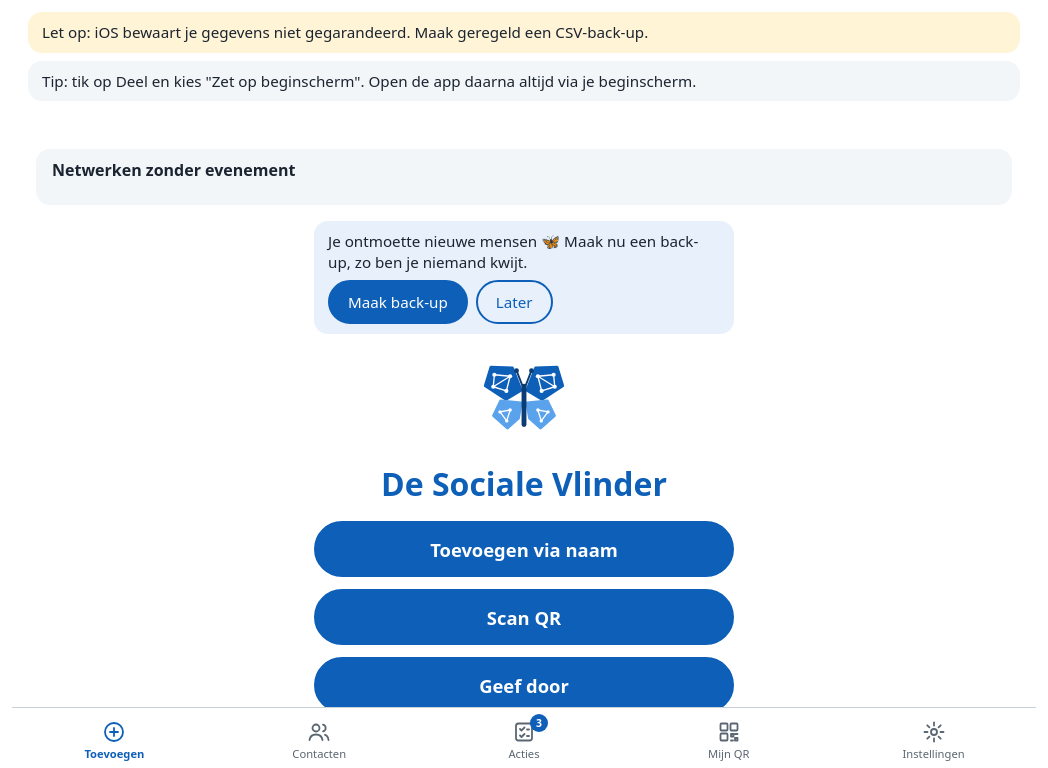
Test case: Same name (User Story 2) › asks "Is this the same person?" before saving or opening anything
Click the button "Toevoegen via naam". click: (524, 549)
box: [314,521,734,577]
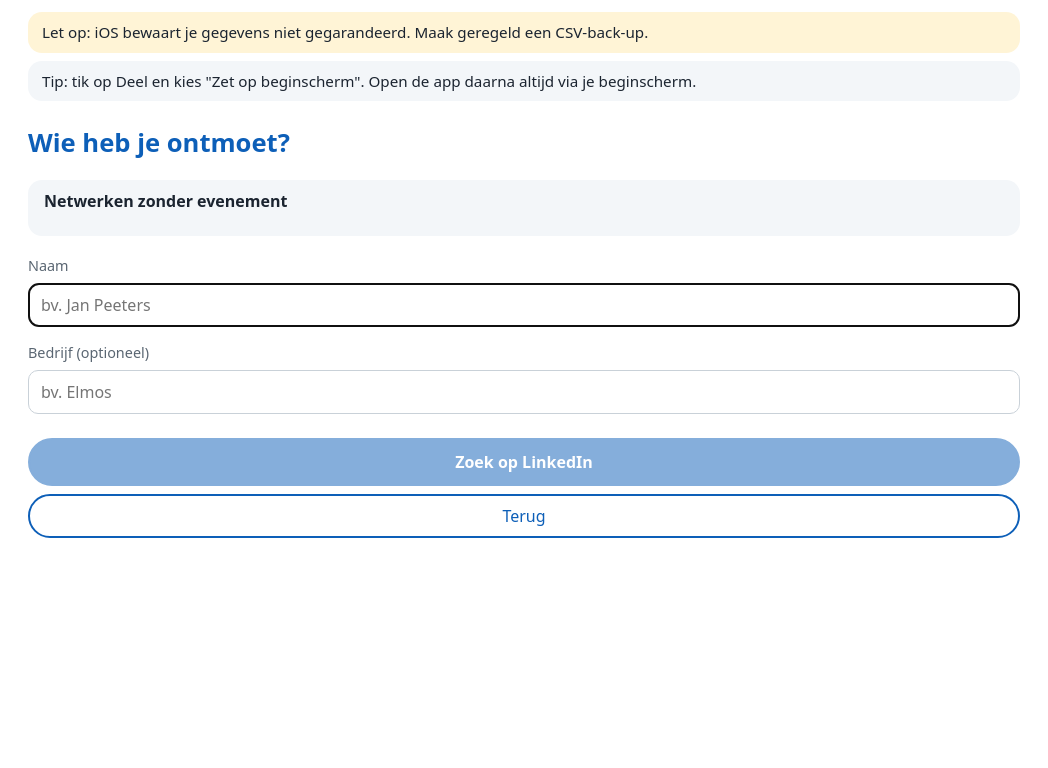
Type "jan  peeters" into the field labelled "Naam". click: (524, 305)
box: [28,283,1020,327]
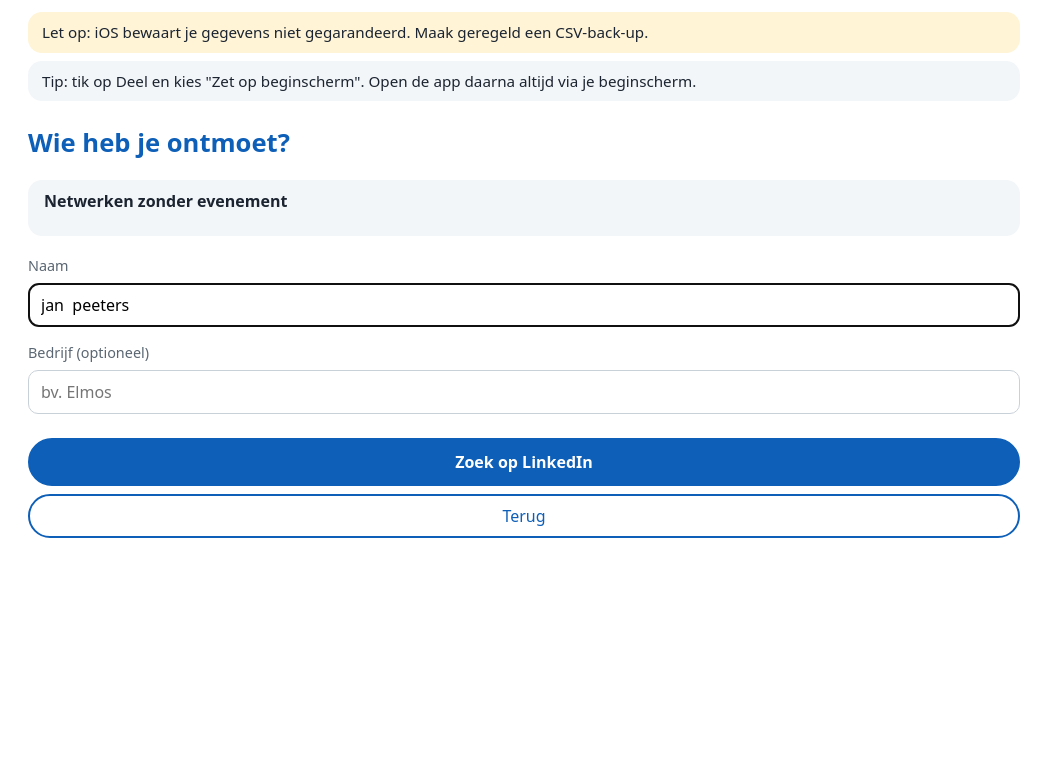
Click the link "Zoek op LinkedIn". click: (524, 462)
box: [28,438,1020,486]
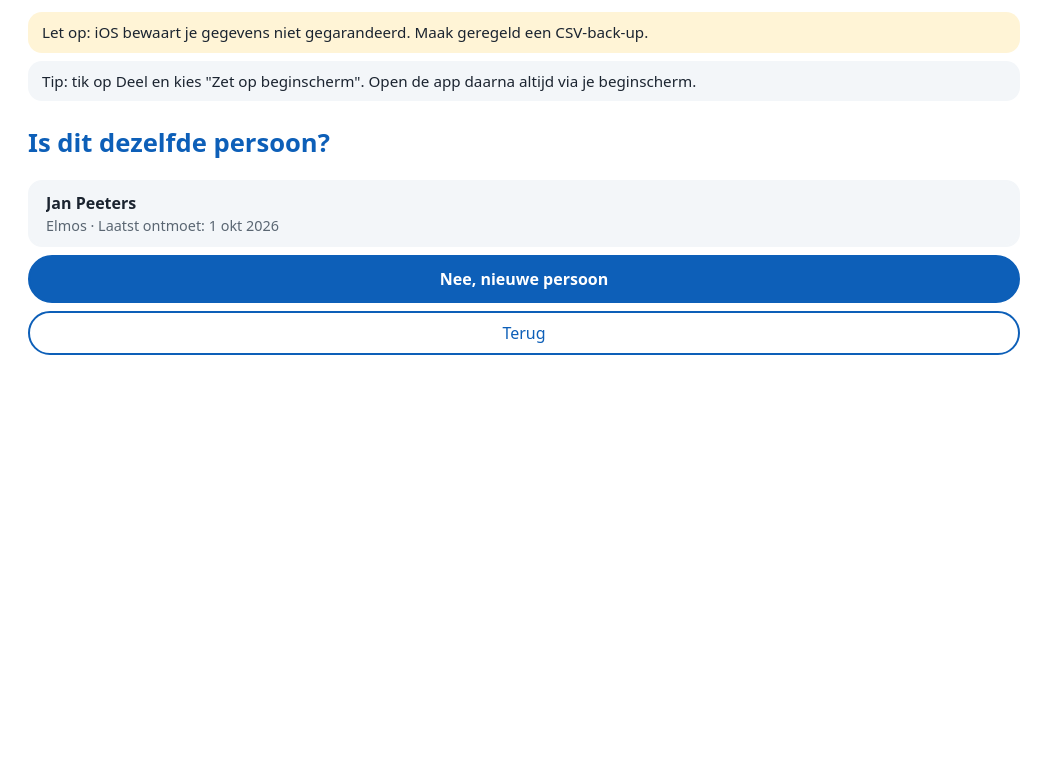
Expected: the heading "Is dit dezelfde persoon?" is shown, [28,125,330,160]
Expected: the link "Jan Peeters Elmos · Laatst ontmoet: 1 okt 2026" is shown, [28,180,1020,247]
